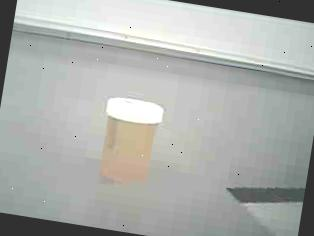Bottle B: (79, 85, 180, 196)
